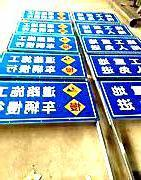sign: (1, 82, 92, 124), (1, 52, 86, 78), (102, 80, 141, 120), (10, 34, 77, 53), (91, 54, 141, 78), (81, 37, 140, 53), (17, 21, 73, 37), (76, 23, 133, 37), (24, 10, 70, 22), (74, 12, 120, 23)
